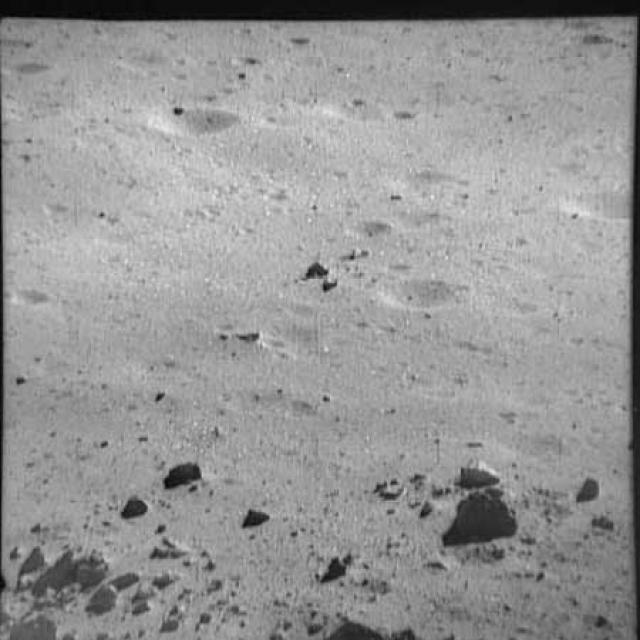crater: (384, 259, 479, 321), (142, 98, 241, 142), (484, 423, 586, 461), (556, 184, 631, 227), (312, 98, 396, 128), (386, 159, 453, 192), (0, 281, 51, 313), (341, 212, 390, 244), (0, 56, 62, 80), (248, 331, 295, 357), (223, 48, 264, 74), (35, 198, 76, 219), (281, 30, 315, 50)
rock: (4, 546, 112, 596), (452, 456, 506, 488), (6, 610, 65, 639), (163, 453, 211, 488), (562, 476, 607, 503), (88, 583, 126, 614), (149, 528, 183, 560), (154, 602, 188, 634), (322, 548, 358, 578), (246, 496, 279, 526), (105, 567, 147, 590), (118, 494, 150, 522), (151, 568, 176, 588), (132, 596, 154, 614)
